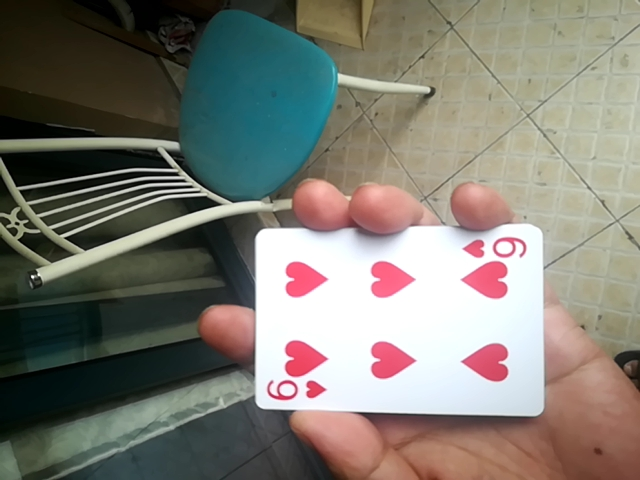hx 6: (256, 222, 556, 421)
